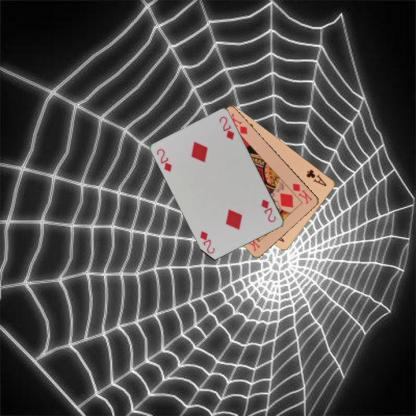2d: (154, 146, 173, 174), (259, 196, 277, 224)
Ac: (304, 166, 328, 188)
Kd: (290, 180, 314, 205)
